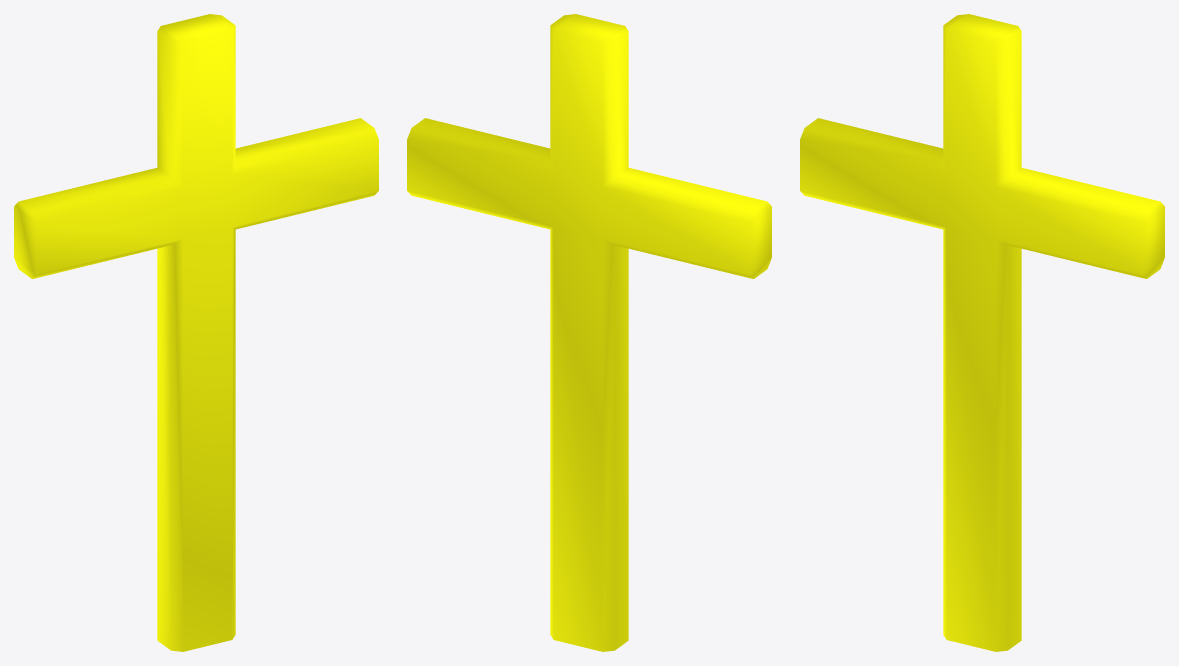
Rendered from crucifix.glb.
The picture shows the model from 3 angles, left to right: view 1: azimuth 30°, elevation 25°; view 2: azimuth 150°, elevation 25°; view 3: azimuth 330°, elevation 25°; orthographic projection.
Parts seen in each view (by area): view 1: woodcrucifix; view 2: woodcrucifix; view 3: woodcrucifix.
Part boxes in pixels (x1,y1,x2,y2): woodcrucifix: (14,14,378,651); woodcrucifix: (407,14,771,651); woodcrucifix: (800,14,1164,651).
Size of the model in its own units: 0.1775 by 0.3021 by 0.0202.
1 material, 1 textured.
